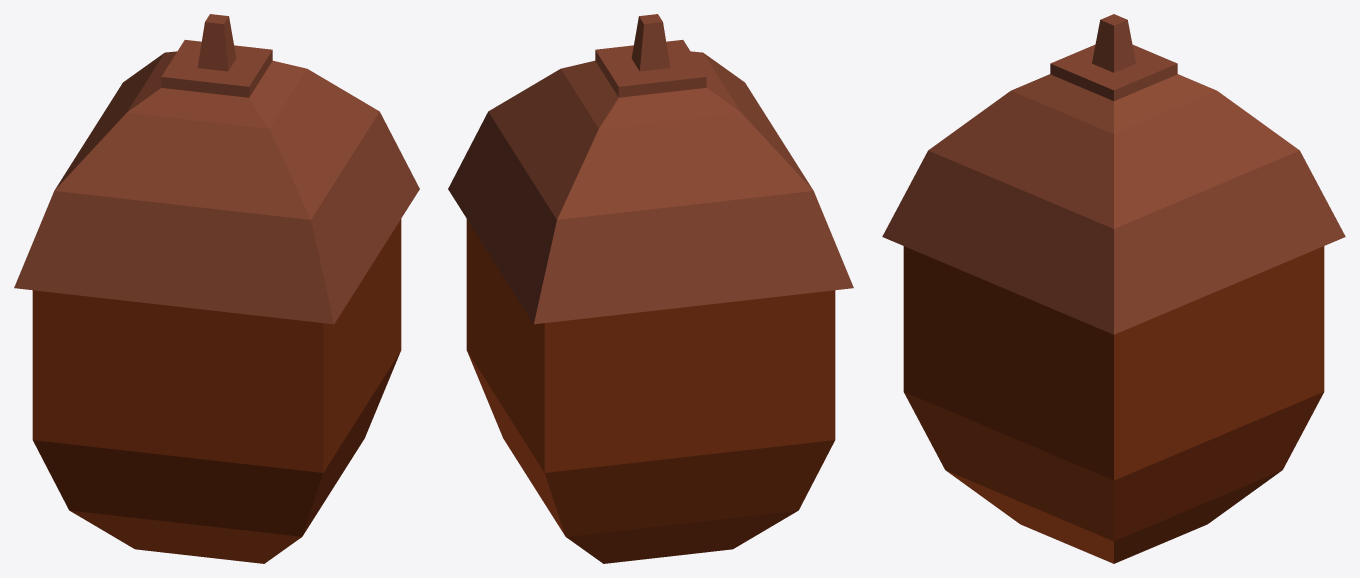
Rendered from dotoli.fbx.
3 renders of one model, left to right at view 1: azimuth 30°, elevation 25°; view 2: azimuth 150°, elevation 25°; view 3: azimuth 270°, elevation 25°, orthographic.
Visible parts, largest first — view 1: dotoli.002; view 2: dotoli.002; view 3: dotoli.002.
Boxes of the visible parts, x1,y1,x2,y2 form: dotoli.002: (14, 14, 419, 563); dotoli.002: (448, 14, 853, 563); dotoli.002: (882, 14, 1345, 563).
Size of the model in its own units: 215 by 268 by 215.
